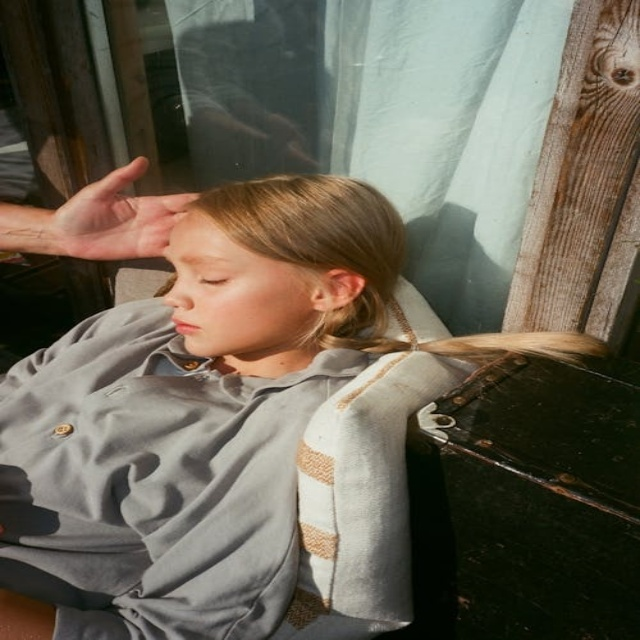Sin_gafas: (160, 250, 261, 293)
Sin_guantes: (42, 154, 184, 267)
Sin_mascara: (165, 302, 243, 351)
